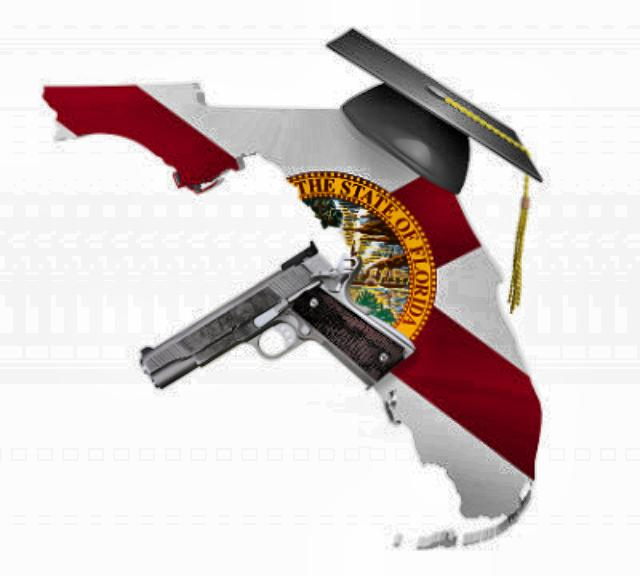pistol: (142, 235, 432, 398)
